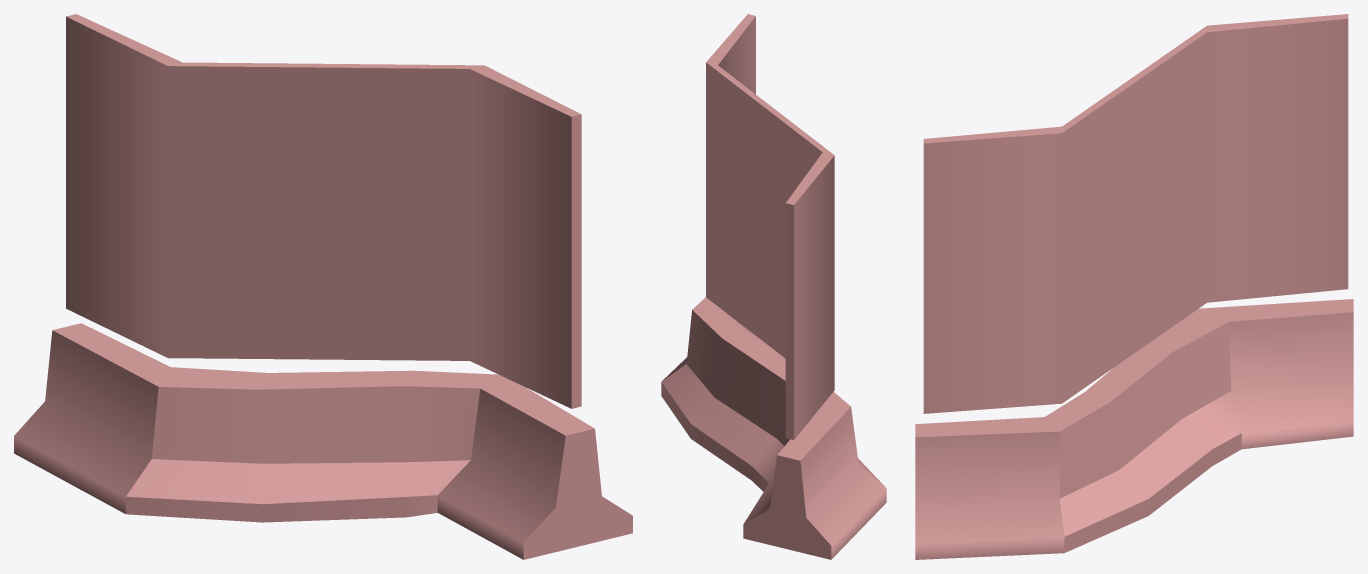
File: Fence_C_D_COL.fbx
3 views of the same model, side by side, from view 1: azimuth 30°, elevation 25°; view 2: azimuth 150°, elevation 25°; view 3: azimuth 270°, elevation 25° (orthographic). The views are drawn at different scales.
Parts seen in each view (by area): view 1: Fence_C_D_COL; view 2: Fence_C_D_COL; view 3: Fence_C_D_COL.
Boxes of the visible parts, x1,y1,x2,y2 form: Fence_C_D_COL: [14, 14, 632, 559]; Fence_C_D_COL: [661, 14, 886, 559]; Fence_C_D_COL: [915, 14, 1353, 559].
Bounding box in the file's own units: 280 × 299 × 300.
